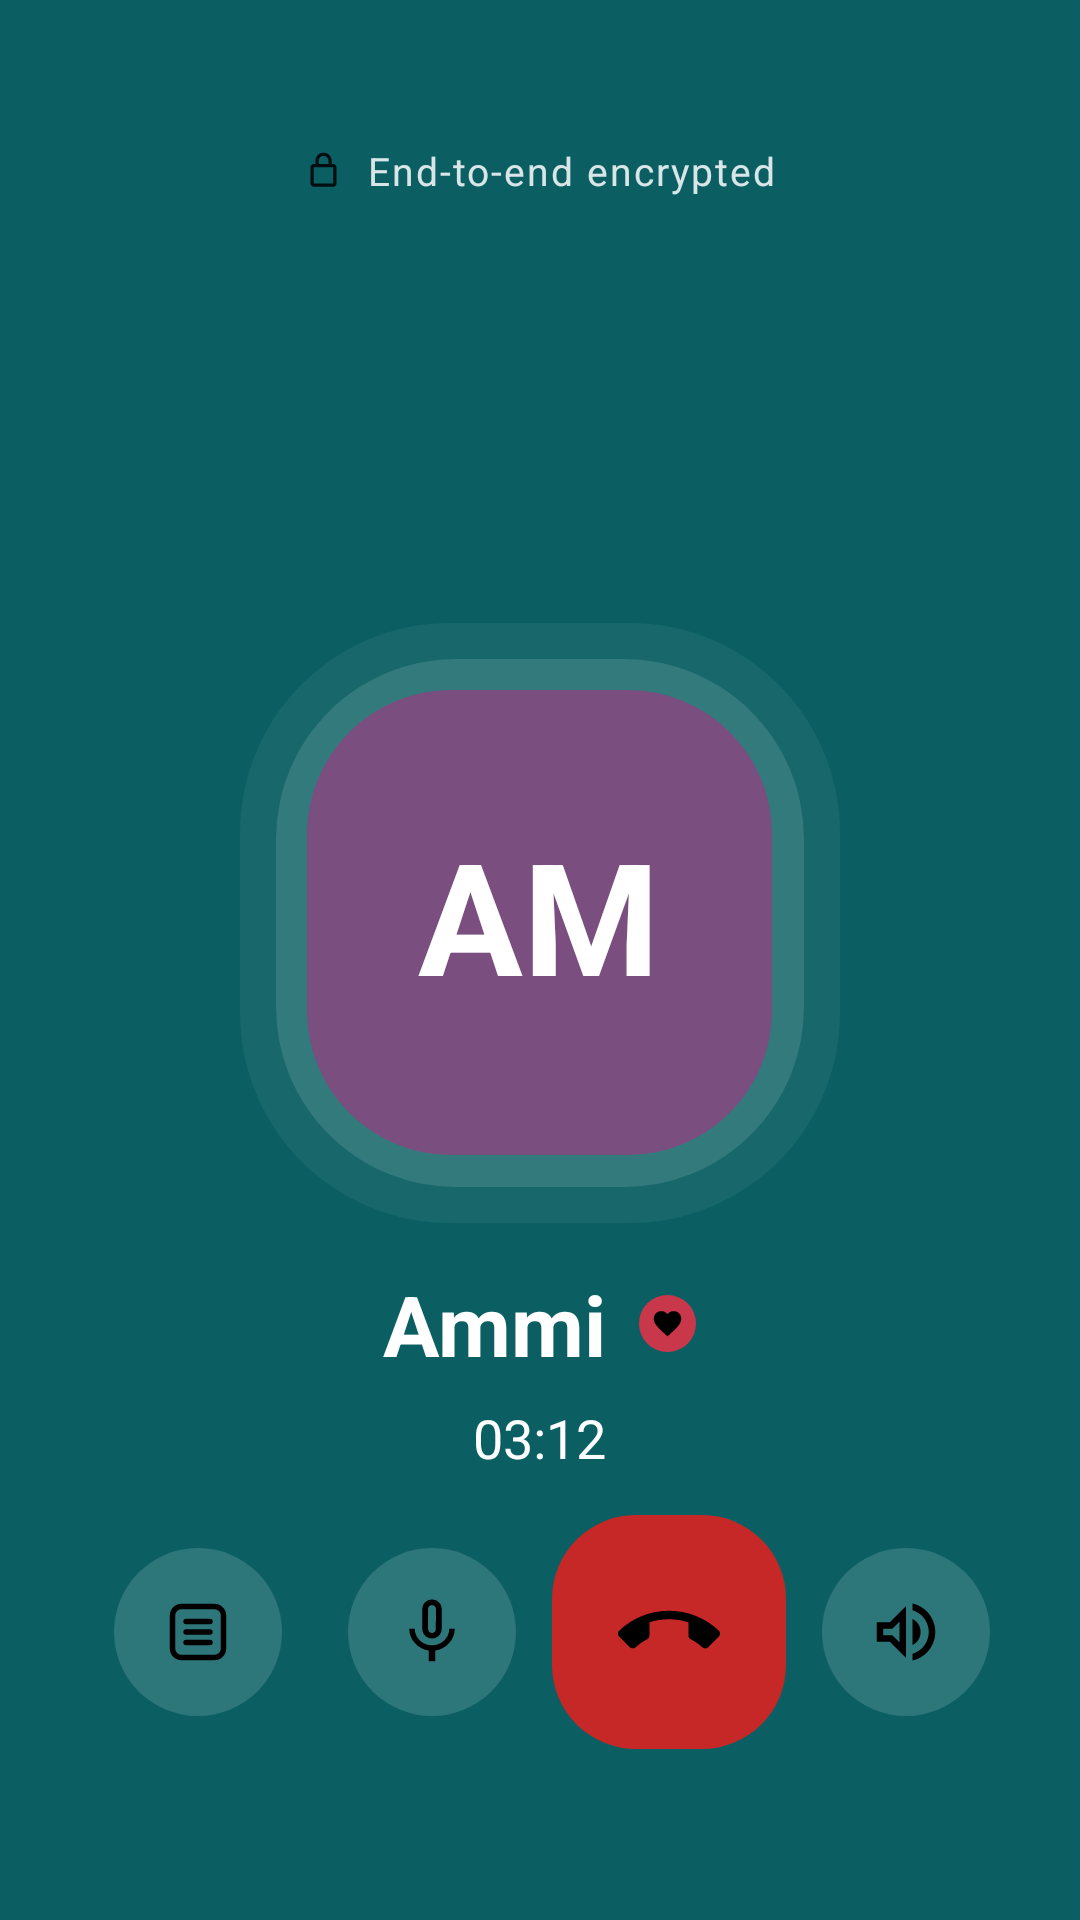

Where icons sit on this 1080 x 1920 app screen, as (x1, y1, x2, y2):
Captions: (114, 1548, 282, 1716)
End call: (552, 1515, 786, 1749)
heart: (639, 1295, 696, 1352)
lock: (310, 153, 337, 187)
Mute: (348, 1548, 516, 1716)
Speaker: (822, 1548, 990, 1716)
